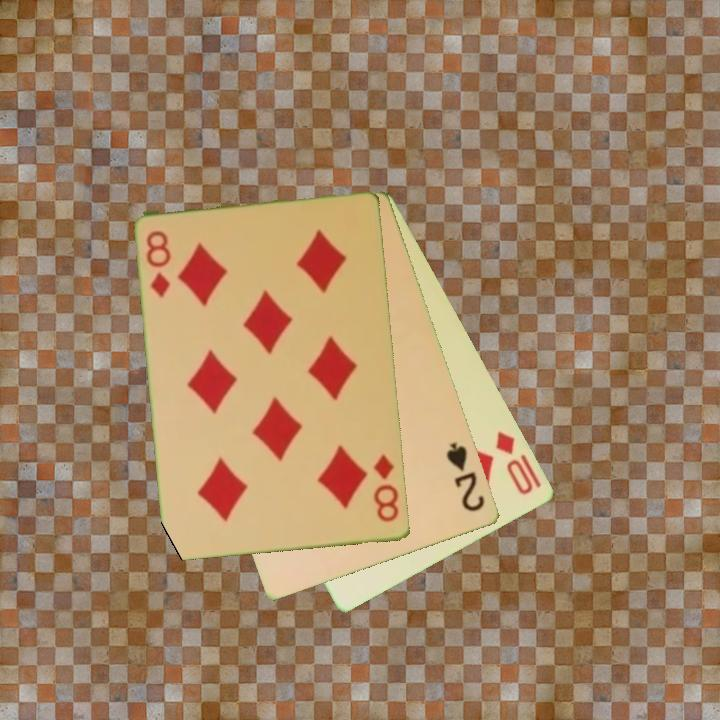10d: (492, 428, 537, 499)
2s: (443, 439, 488, 515)
8d: (370, 451, 402, 525), (143, 227, 175, 301)
